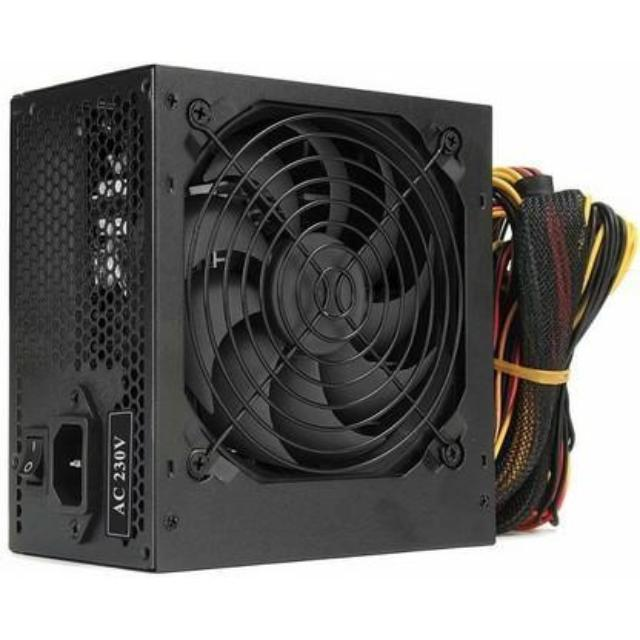PSU: (0, 47, 503, 584)
